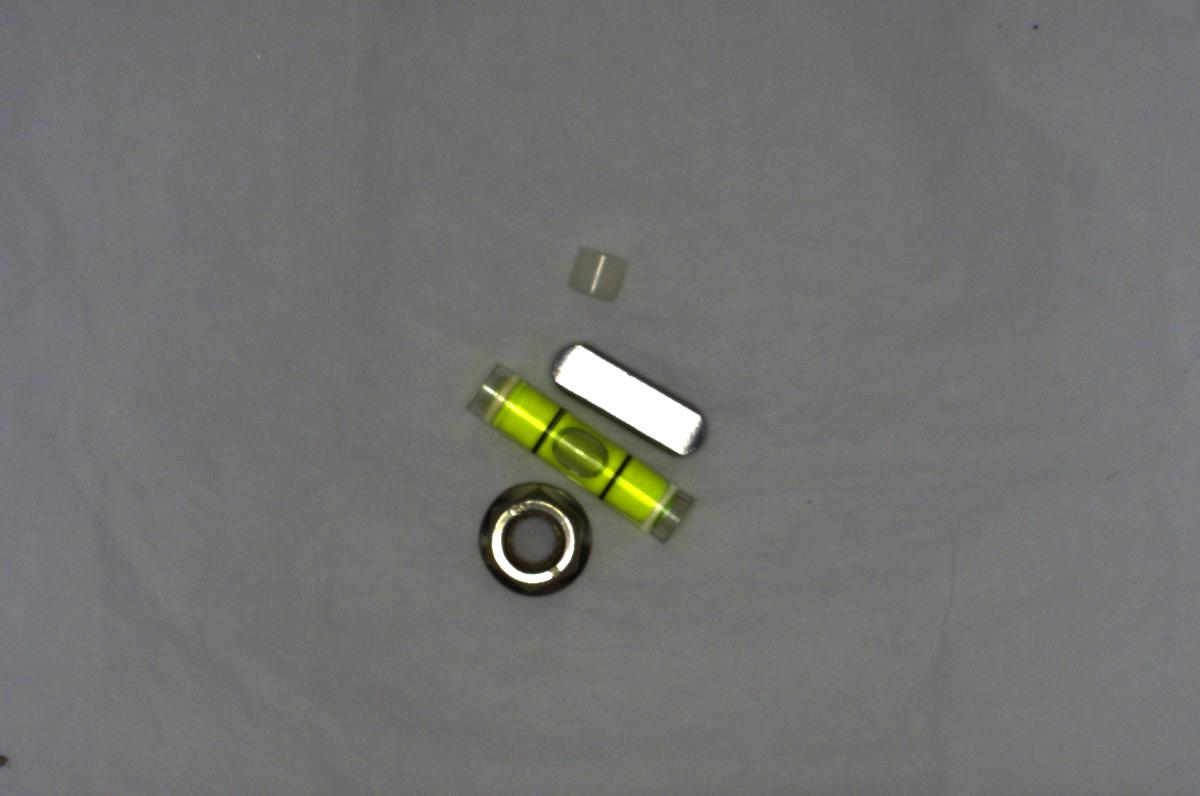Flange nut: (465, 476, 599, 608)
Horizontal bubble: (460, 360, 704, 542)
Keybar: (539, 335, 707, 452)
Plastic cushion pillar: (548, 234, 634, 309)
